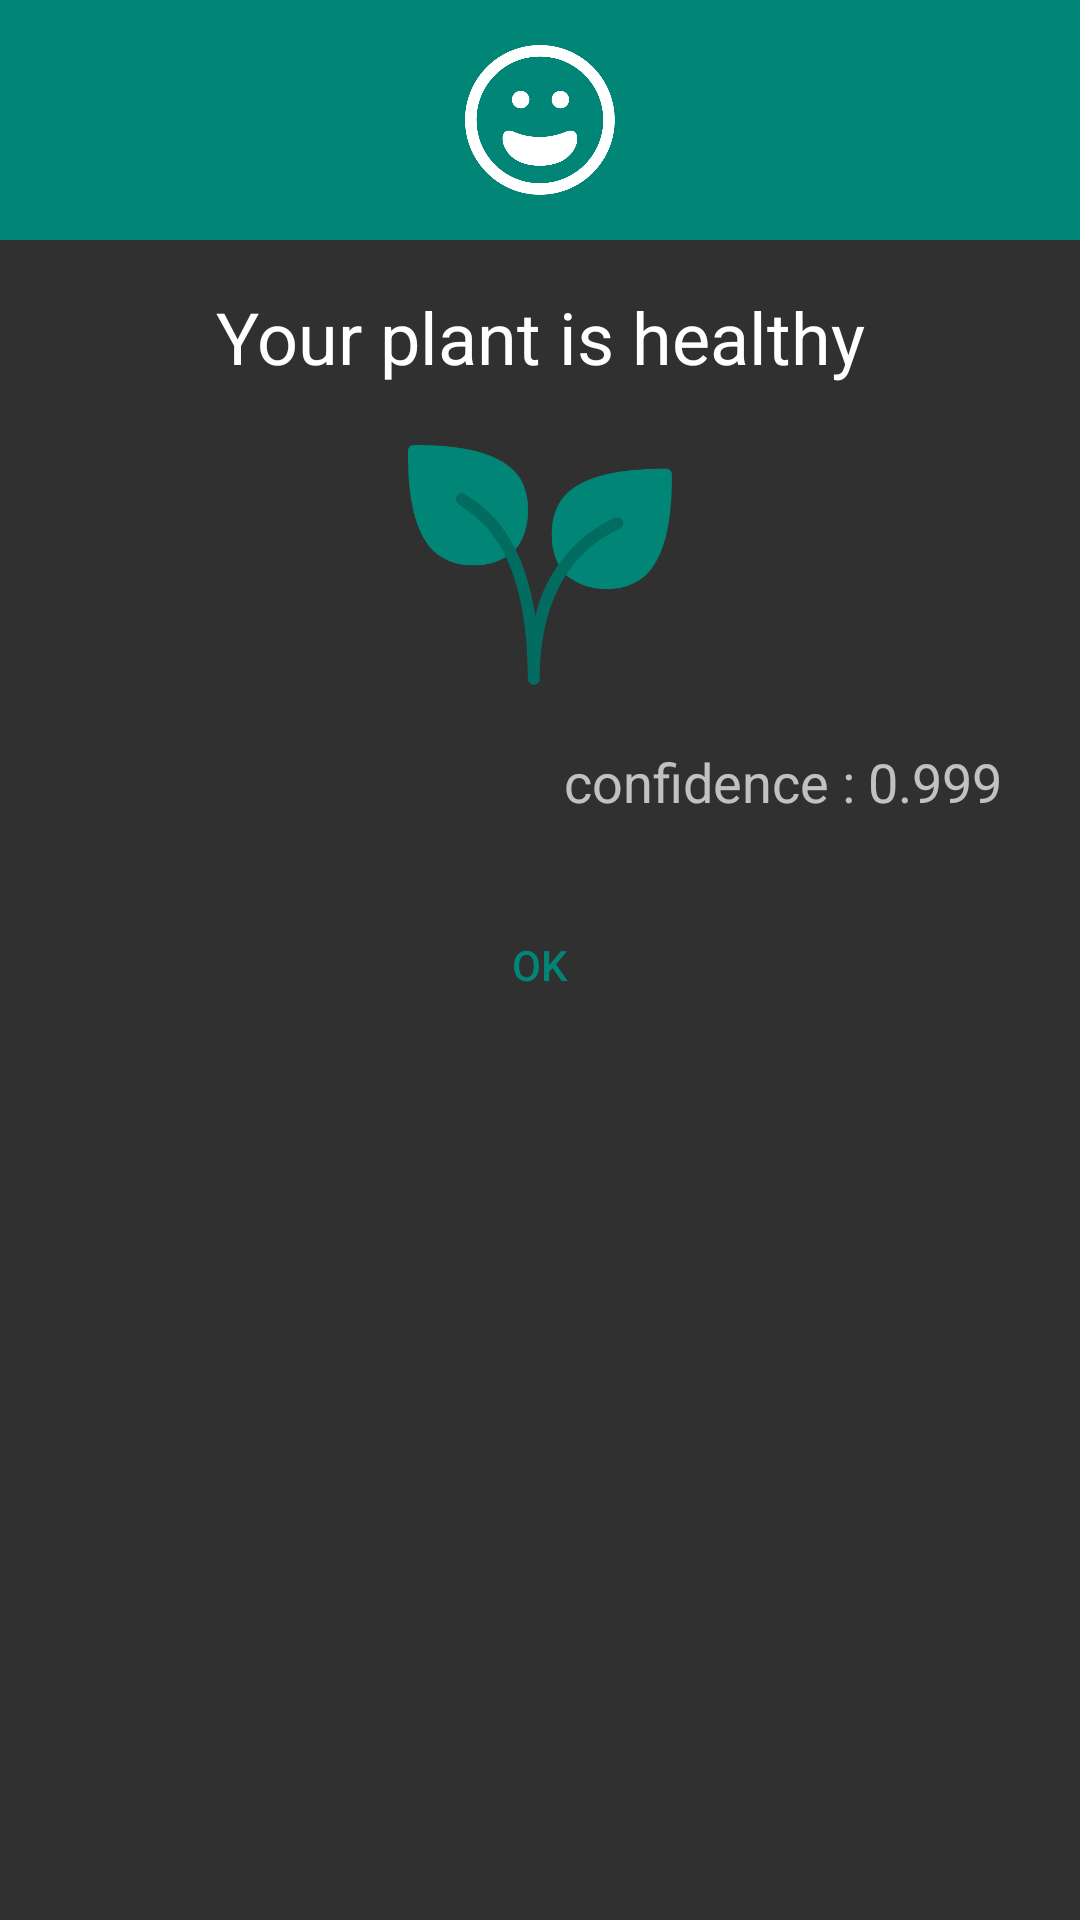

Locate icon controls on the screen. Image size 1080x1920, boxes as BBox(x1, y1, x2, y2).
happy: BBox(465, 45, 615, 195)
leaves: BBox(408, 445, 672, 685)
